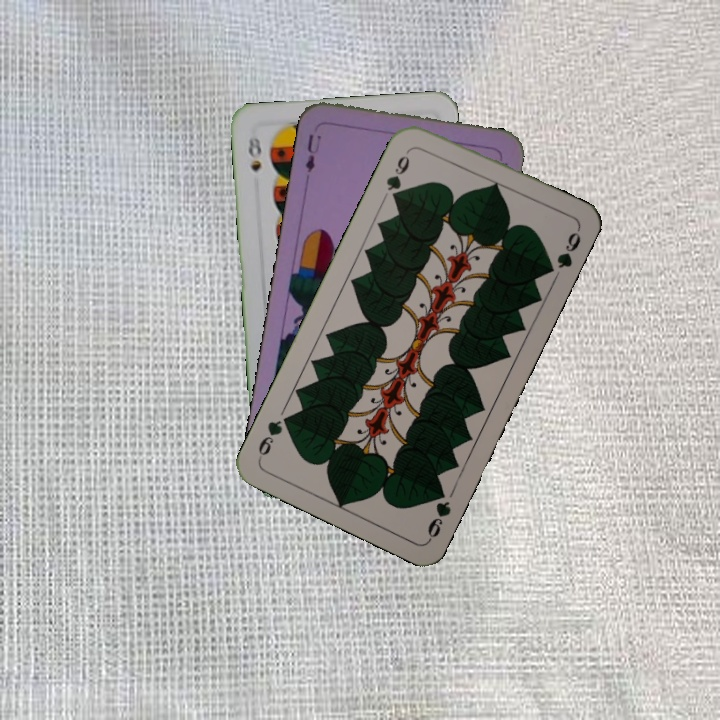EU: (301, 130, 324, 176)
G9: (381, 144, 414, 203), (423, 482, 454, 543)
S8: (244, 133, 265, 175)
